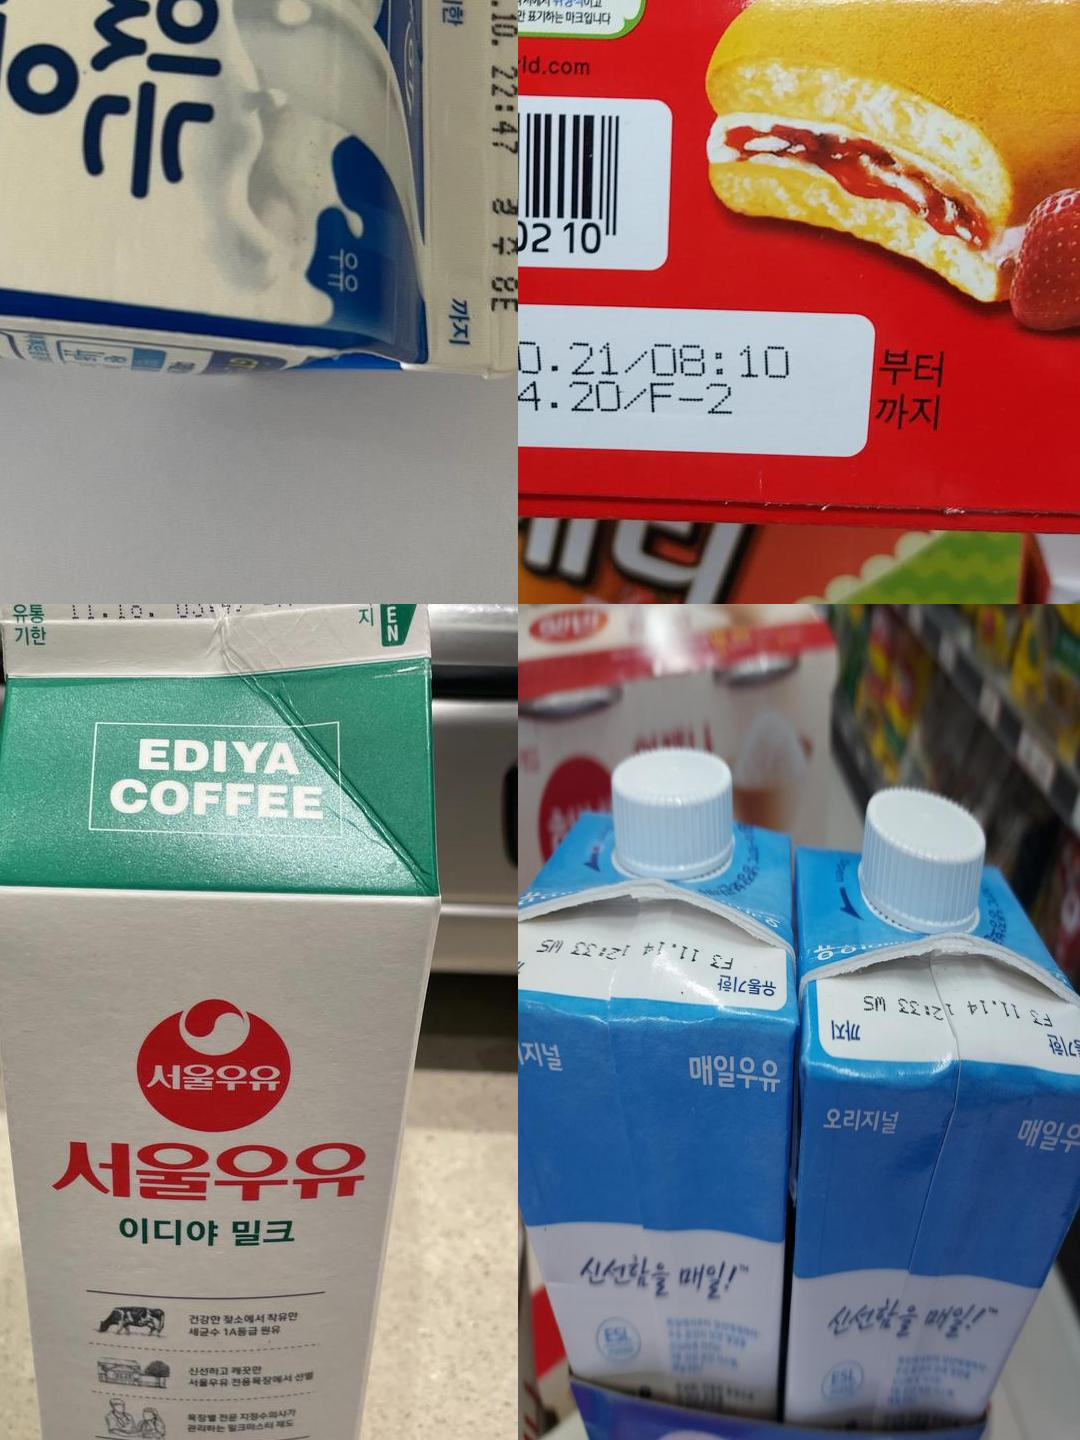milk: (425, 0, 518, 367), (0, 604, 430, 669), (815, 968, 1080, 1071), (520, 917, 784, 1008)
snack food: (518, 300, 864, 452)
